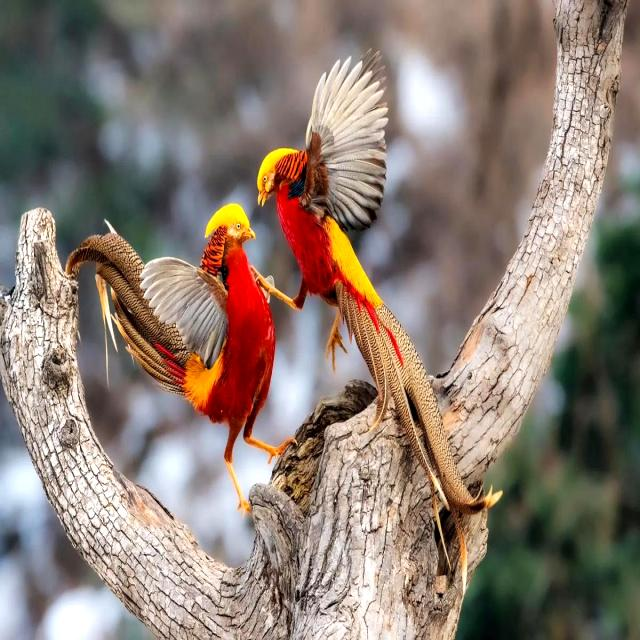Chrysolophus pictus feather: (336, 284, 502, 601), (65, 218, 189, 396)
